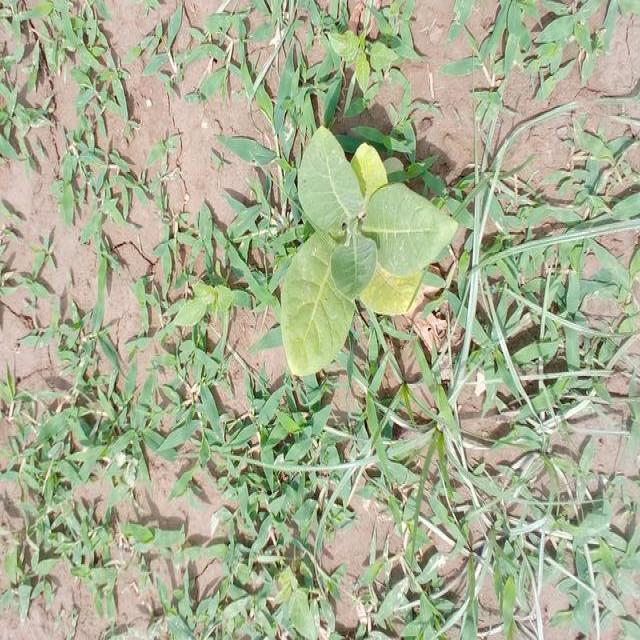crop: (280, 124, 455, 370)
